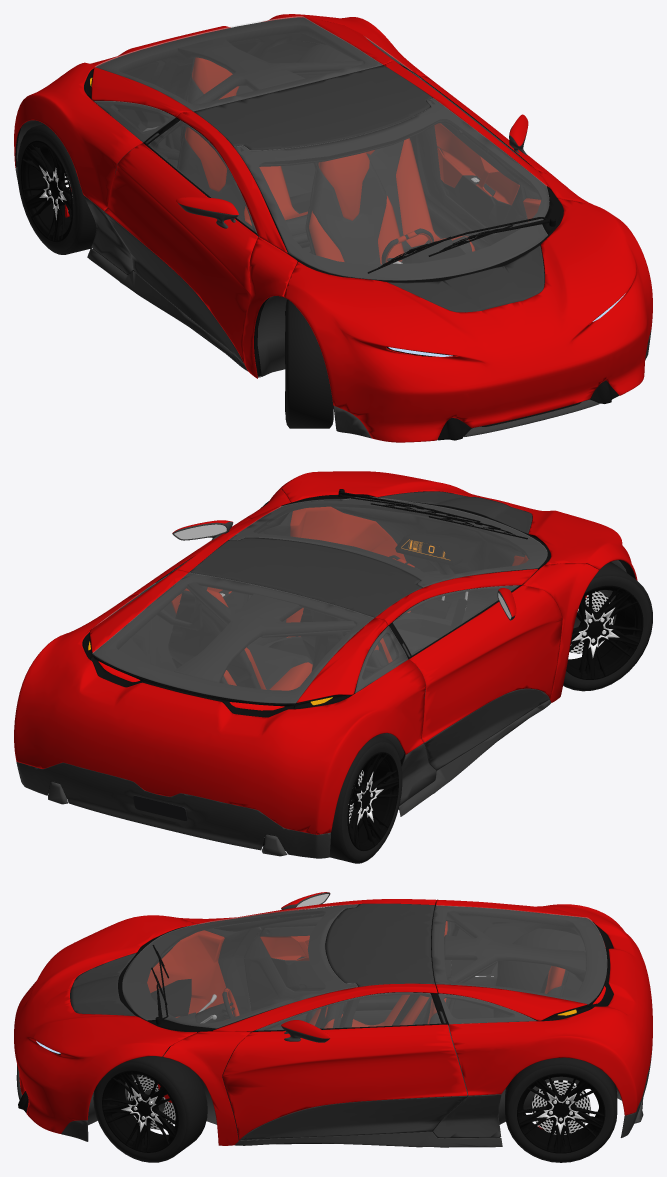
File: ev-car.glb
The picture shows the model from 3 angles, top to bottom: view 1: azimuth 30°, elevation 25°; view 2: azimuth 150°, elevation 25°; view 3: azimuth 270°, elevation 25°; orthographic projection. The views are drawn at different scales.
Parts seen in each view (by area): view 1: BodyHood, BodyWindshield, BodyRearwindow, BodyDoorRColor1, BodyRearPanelsColor1, BodyRoofPanel, BodyWindshieldGasket, InteriorSeatsColor1, InteriorSeatsColor2, BodyPillars, InteriorPillar, InteriorRearHatch (+21 smaller); view 2: BodyRearPanelsColor1, BodyRearwindow, BodyWindshield, BodyDoorRColor1, BodyPanelsColor2, BodyRoofPanel, BodyHood, InteriorRearHatch, BodyPillars, InteriorPillar, InteriorDashMid, BodyWindshieldGasket (+22 smaller); view 3: BodyRearPanelsColor1, BodyWindshield, BodyDoorLColor1, BodyHood, BodyRearwindow, BodyRoofPanel, BodyPillars, BodyWindshieldGasket, BodyDoorLColor2, BodyPanelsColor2, WheelFrontL, InteriorRearHatch (+25 smaller).
Boxes of the visible parts, x1,y1,x2,y2 form: BodyHood: (283,198,652,442); BodyWindshield: (234,98,549,280); BodyRearwindow: (95,16,382,110); BodyDoorRColor1: (104,143,257,363); BodyRearPanelsColor1: (14,14,428,210); BodyRoofPanel: (193,65,432,150); BodyWindshieldGasket: (234,99,563,282); InteriorSeatsColor1: (185,57,475,264); InteriorSeatsColor2: (180,78,472,264); BodyPillars: (176,61,598,378); InteriorPillar: (158,37,434,168); InteriorRearHatch: (93,17,383,117); BodyRearPanelsColor1: (14,569,425,834); BodyRearwindow: (92,573,373,703); BodyWindshield: (229,497,547,587); BodyDoorRColor1: (409,585,562,742); BodyPanelsColor2: (16,700,550,858); BodyRoofPanel: (189,537,422,617); BodyHood: (279,471,637,580); InteriorRearHatch: (93,573,386,707); BodyPillars: (175,489,599,702); InteriorPillar: (174,574,417,682); InteriorDashMid: (331,503,528,622); BodyWindshieldGasket: (230,497,550,587); BodyRearPanelsColor1: (436,899,652,1115); BodyWindshield: (122,904,357,1028); BodyDoorLColor1: (222,1024,467,1139); BodyHood: (14,915,196,1133); BodyRearwindow: (432,905,606,1003); BodyRoofPanel: (326,903,434,986); BodyPillars: (163,899,437,1145); BodyWindshieldGasket: (118,905,357,1032); BodyDoorLColor2: (240,1096,467,1140); BodyPanelsColor2: (16,1045,652,1147); WheelFrontL: (93,1054,207,1162); InteriorRearHatch: (431,905,606,1020).
Bounding box in the file's own units: 2.54 × 1.15 × 4.36.
24 materials, 2 textured.
